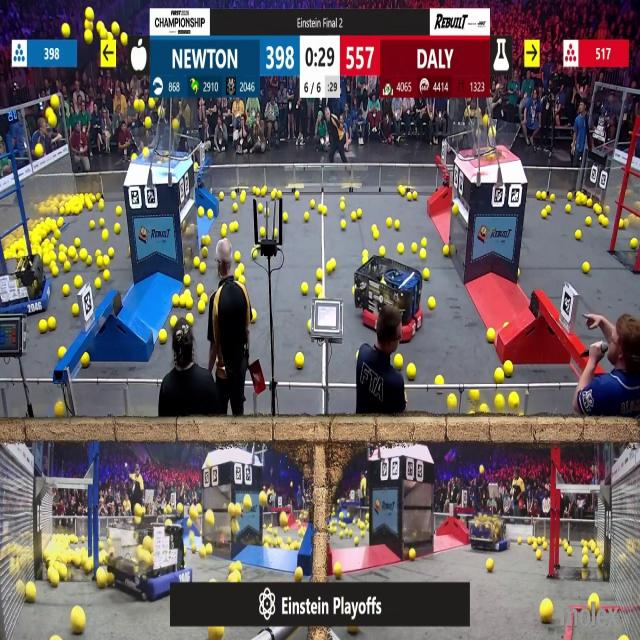ball_airborne: (47, 109, 56, 127), (244, 494, 252, 510), (52, 94, 61, 108), (258, 491, 266, 505), (36, 144, 44, 157), (62, 25, 70, 38), (135, 503, 143, 515), (87, 8, 95, 20), (86, 31, 94, 42), (138, 99, 145, 111), (97, 22, 105, 32), (120, 33, 126, 46), (144, 116, 151, 127), (148, 98, 154, 110), (172, 118, 179, 128), (484, 113, 490, 124), (112, 23, 118, 34), (143, 147, 149, 157), (107, 32, 113, 41), (134, 517, 140, 525), (480, 465, 485, 474), (488, 129, 493, 136), (133, 152, 137, 160)
ball_ground: (71, 610, 85, 636), (540, 600, 552, 622), (209, 626, 224, 640), (27, 585, 37, 604), (98, 570, 107, 587), (448, 393, 458, 408), (503, 360, 512, 376), (56, 404, 66, 418), (408, 363, 417, 378), (510, 392, 519, 407), (49, 571, 58, 586), (494, 368, 504, 381), (295, 352, 303, 368), (335, 562, 343, 578), (394, 354, 403, 368), (81, 352, 89, 367), (496, 394, 504, 408), (280, 514, 288, 528), (86, 560, 95, 572), (487, 328, 495, 341), (74, 276, 82, 289), (47, 317, 55, 330), (59, 346, 67, 359), (61, 565, 69, 578), (469, 389, 478, 400), (486, 560, 494, 572), (160, 332, 168, 344), (326, 262, 334, 274), (72, 305, 79, 318), (39, 320, 46, 333), (107, 572, 114, 585), (170, 316, 178, 327), (172, 294, 180, 305), (410, 550, 417, 562), (183, 275, 190, 287), (294, 568, 301, 580), (630, 239, 638, 249), (434, 376, 442, 386), (594, 205, 602, 215), (68, 246, 76, 256), (444, 245, 451, 256), (63, 284, 70, 295), (199, 303, 206, 314), (185, 313, 192, 324), (195, 284, 202, 295), (79, 249, 86, 260), (584, 263, 590, 275), (428, 296, 434, 308), (51, 266, 57, 278), (179, 294, 185, 306), (100, 552, 106, 564), (200, 264, 207, 274), (185, 300, 192, 310), (386, 217, 393, 227), (316, 270, 323, 280), (412, 243, 419, 253), (60, 252, 67, 262), (102, 232, 109, 242), (205, 544, 212, 554), (42, 254, 49, 264), (235, 562, 242, 572), (423, 269, 429, 280), (316, 284, 322, 295), (303, 283, 309, 294), (236, 251, 242, 262), (192, 256, 198, 267), (227, 573, 235, 581), (421, 239, 428, 248), (50, 252, 57, 261), (96, 279, 102, 289), (574, 231, 580, 241), (252, 310, 257, 322), (397, 244, 403, 254), (114, 223, 120, 233), (104, 255, 110, 265), (341, 219, 347, 229), (602, 216, 608, 226), (99, 201, 105, 211), (583, 556, 589, 566), (98, 256, 104, 266), (236, 269, 242, 279), (236, 572, 242, 582), (589, 600, 594, 612), (201, 548, 207, 558), (481, 406, 488, 414), (60, 244, 67, 252), (540, 191, 547, 199), (421, 249, 426, 260), (587, 216, 593, 225), (75, 239, 81, 248), (202, 248, 208, 257), (394, 219, 400, 228), (108, 248, 114, 257), (452, 206, 458, 215), (100, 218, 106, 227), (259, 226, 265, 235), (220, 230, 226, 239), (566, 205, 572, 214), (371, 231, 377, 240), (357, 209, 363, 218), (202, 237, 208, 246), (88, 203, 94, 212), (596, 557, 602, 566), (381, 246, 386, 256), (104, 271, 109, 281), (283, 212, 288, 222), (65, 263, 70, 273), (305, 212, 310, 222), (241, 192, 246, 202), (620, 218, 625, 228), (567, 545, 572, 555), (59, 217, 64, 227), (218, 191, 224, 199), (199, 208, 205, 216), (274, 230, 280, 238), (233, 222, 239, 230), (551, 193, 557, 201), (252, 250, 258, 258), (184, 288, 190, 296), (532, 542, 538, 550), (596, 599, 600, 611), (408, 191, 414, 199), (540, 210, 546, 218), (517, 536, 523, 544), (592, 594, 598, 602), (240, 276, 246, 284), (587, 200, 593, 208), (221, 222, 227, 230), (60, 207, 66, 215), (88, 256, 93, 265), (208, 210, 213, 219), (536, 551, 541, 560), (234, 204, 239, 213), (352, 212, 357, 221), (545, 206, 550, 215), (398, 186, 403, 195), (32, 247, 37, 256), (362, 249, 367, 257), (116, 207, 121, 215), (91, 220, 96, 228), (341, 203, 346, 211), (309, 320, 313, 330), (371, 224, 376, 232), (257, 205, 262, 213), (542, 542, 547, 550), (567, 191, 572, 199), (575, 198, 580, 206), (311, 201, 316, 209), (272, 190, 277, 198), (340, 534, 345, 542), (582, 548, 587, 556), (362, 256, 367, 264), (277, 194, 282, 202), (56, 232, 61, 240), (322, 206, 326, 215), (355, 536, 359, 545), (294, 191, 299, 198), (536, 190, 540, 198), (98, 249, 102, 257), (191, 543, 195, 551), (233, 190, 237, 198), (74, 254, 78, 262), (97, 192, 101, 200), (360, 522, 364, 530), (268, 208, 272, 216), (528, 537, 532, 544), (51, 636, 58, 640), (100, 541, 104, 548), (621, 636, 628, 640), (81, 535, 85, 542), (341, 514, 345, 520), (361, 530, 365, 536)
goal: (466, 122, 522, 160), (130, 129, 186, 160)
robot_blue: (110, 516, 192, 603), (1, 256, 52, 316), (468, 514, 510, 553)
robot_red: (350, 260, 420, 337), (606, 513, 640, 631)
